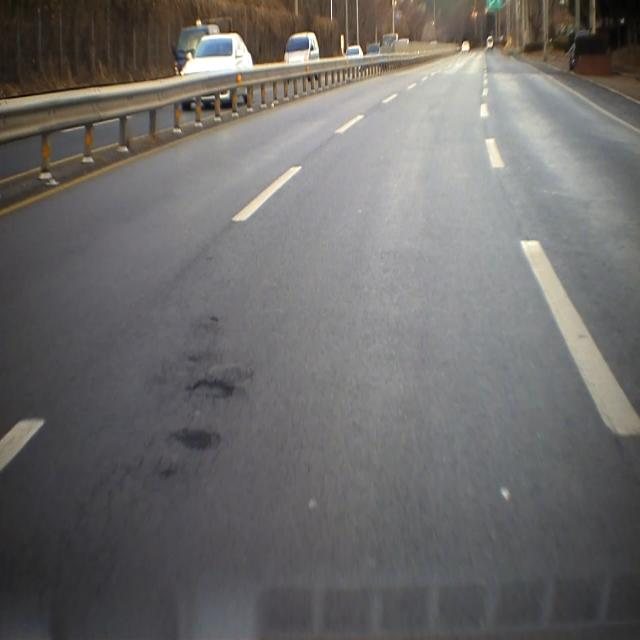Pothole: (170, 416, 230, 461), (188, 372, 248, 408)
